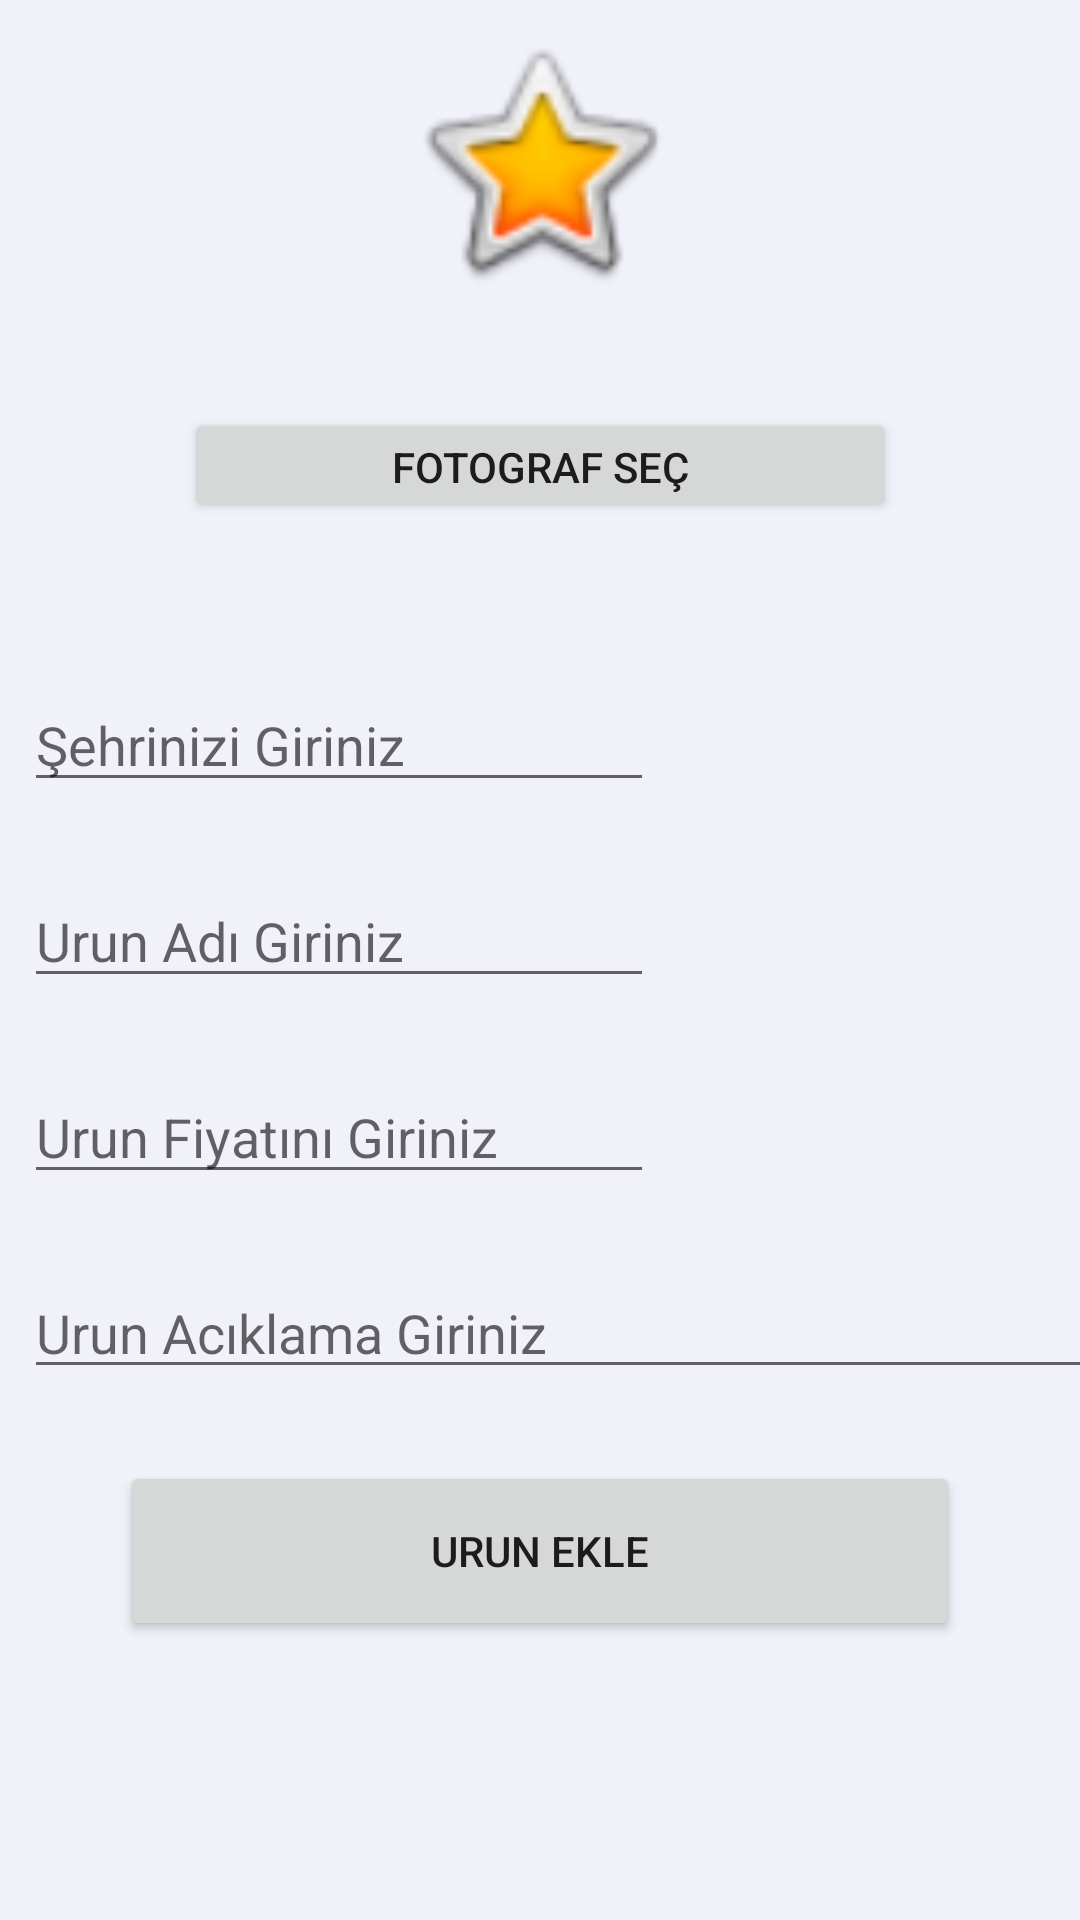

Named icons in this screenshot (1080x1920) and their bounding boxes, (x1, y1, x2, y2):
star on: (427, 52, 658, 276)
